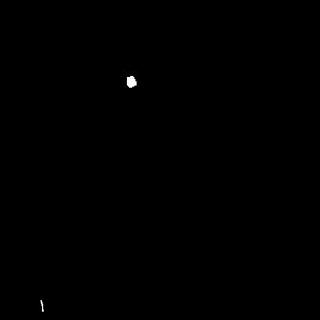dot: (119, 72, 139, 96)
one: (38, 294, 44, 315)
